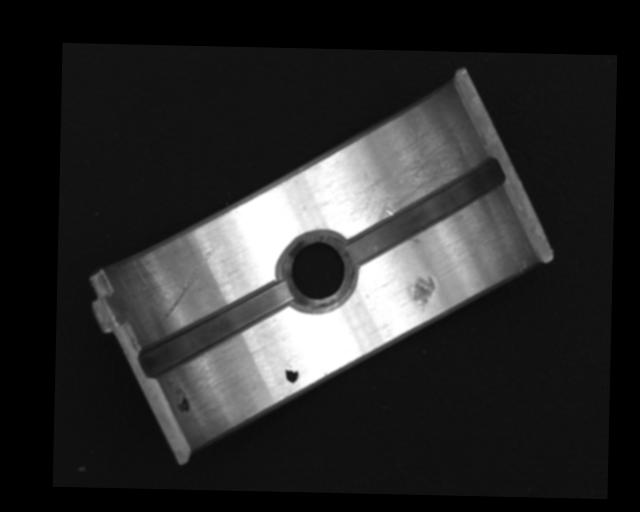blot: (175, 389, 189, 415), (284, 363, 299, 384)
bruise: (410, 275, 436, 313)
gap: (348, 156, 504, 269), (139, 277, 292, 381)
hole: (279, 231, 355, 314)
nick: (162, 244, 215, 324)
scratch: (353, 130, 466, 237)
